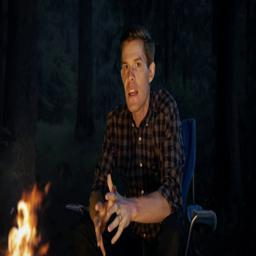fire: (7, 182, 50, 256)
